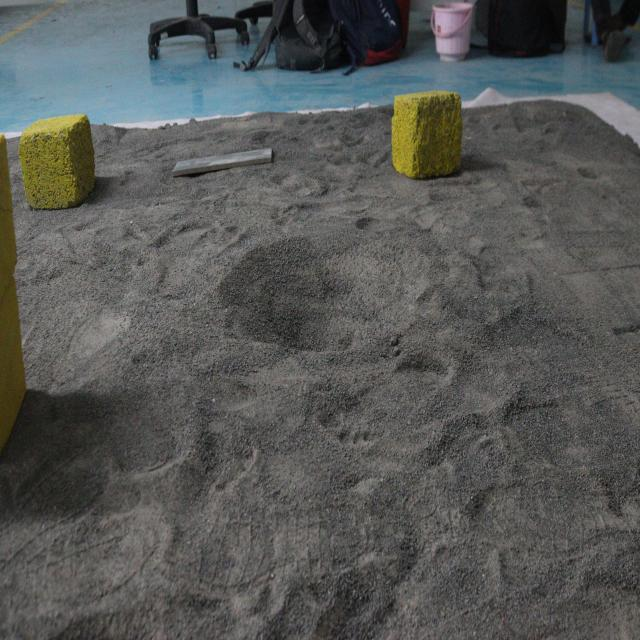box: (386, 80, 466, 186), (20, 114, 100, 213)
crater: (211, 224, 442, 375)
